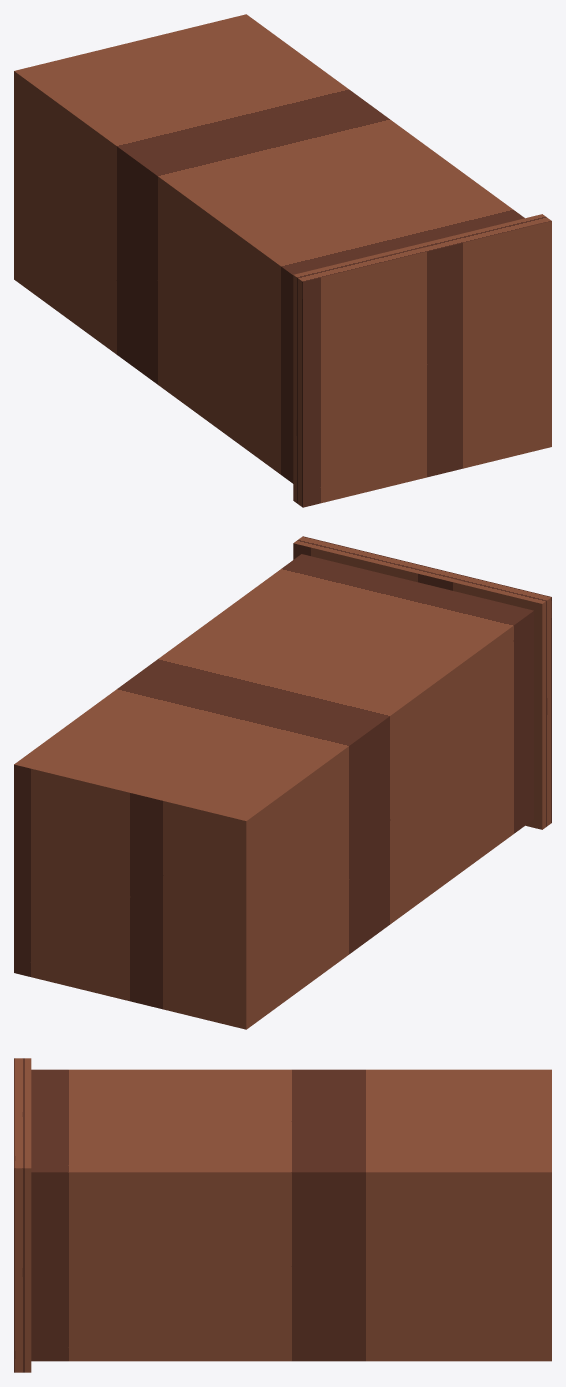
Rendered from wardrobe.glb.
The picture shows the model from 3 angles, top to bottom: view 1: azimuth 30°, elevation 25°; view 2: azimuth 150°, elevation 25°; view 3: azimuth 270°, elevation 25°; orthographic projection. The views are drawn at different scales.
Visible parts, largest first — view 1: wardrobe; view 2: wardrobe; view 3: wardrobe.
Part boxes in pixels (x1,y1,x2,y2): wardrobe: (14, 14, 551, 507); wardrobe: (14, 536, 551, 1029); wardrobe: (14, 1058, 551, 1372).
Size of the model in its own units: 0.9375 by 0.8125 by 1.94.
1 material, 1 textured.
